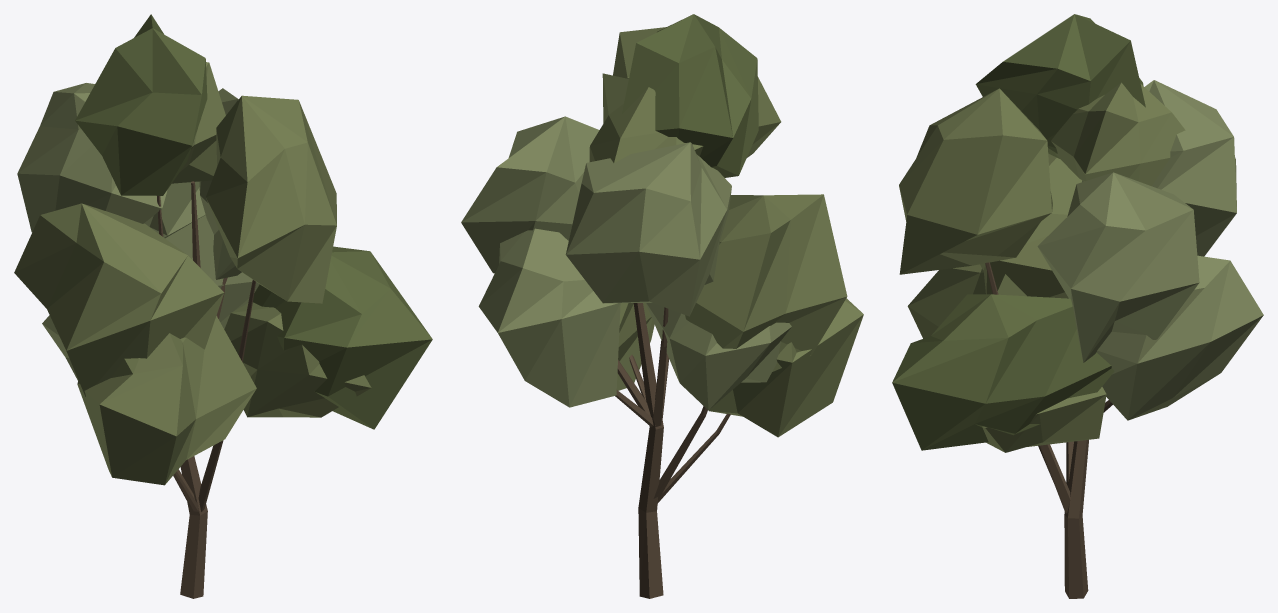
The picture shows the model from 3 angles, left to right: view 1: azimuth 30°, elevation 25°; view 2: azimuth 150°, elevation 25°; view 3: azimuth 270°, elevation 25°; orthographic projection. The views are drawn at different scales.
Parts seen in each view (by area): view 1: low; view 2: low; view 3: low.
Boxes of the visible parts, bbox=[...] form: low: bbox=[14, 14, 432, 598]; low: bbox=[461, 14, 863, 598]; low: bbox=[892, 14, 1263, 598].
Size of the model in its own units: 9.26 by 15.88 by 9.52.
